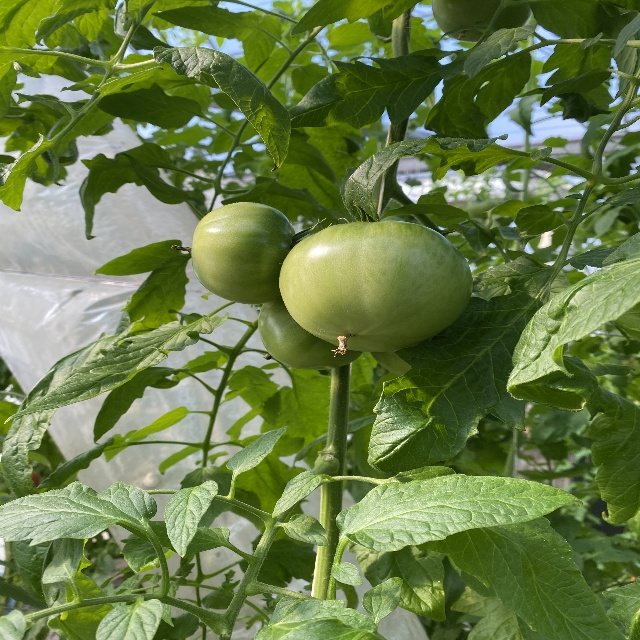b_green: (280, 220, 474, 351), (191, 202, 298, 305), (258, 297, 363, 370)
